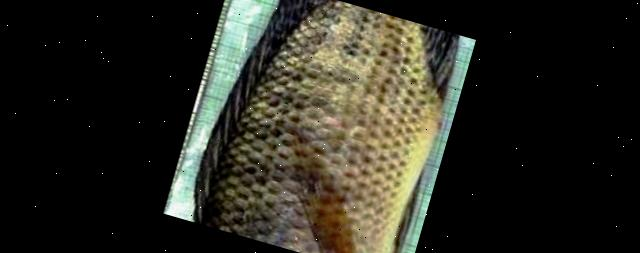Tilapia Lake Virus -TiLV-: (195, 0, 460, 253), (194, 0, 457, 253)
